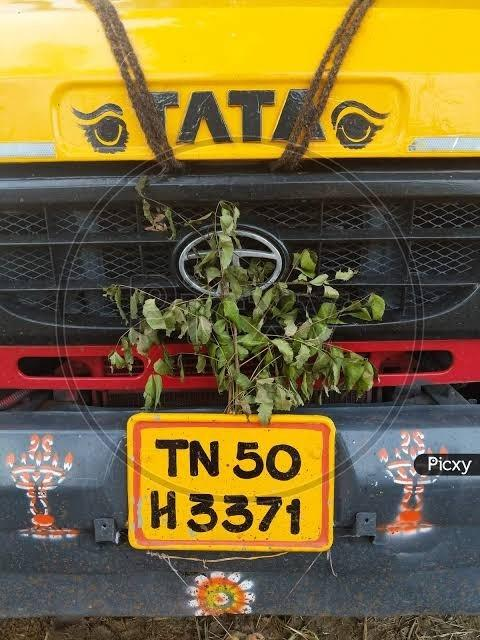License plate: (137, 425, 327, 548)
